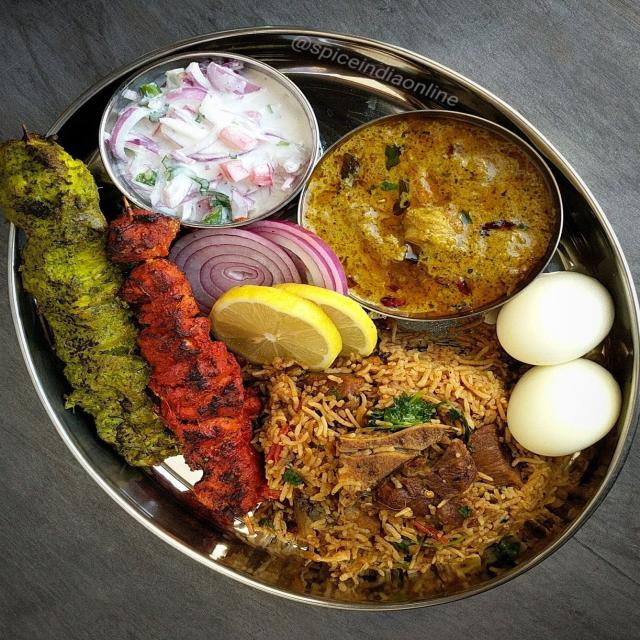non veg meals: (0, 17, 640, 608)
